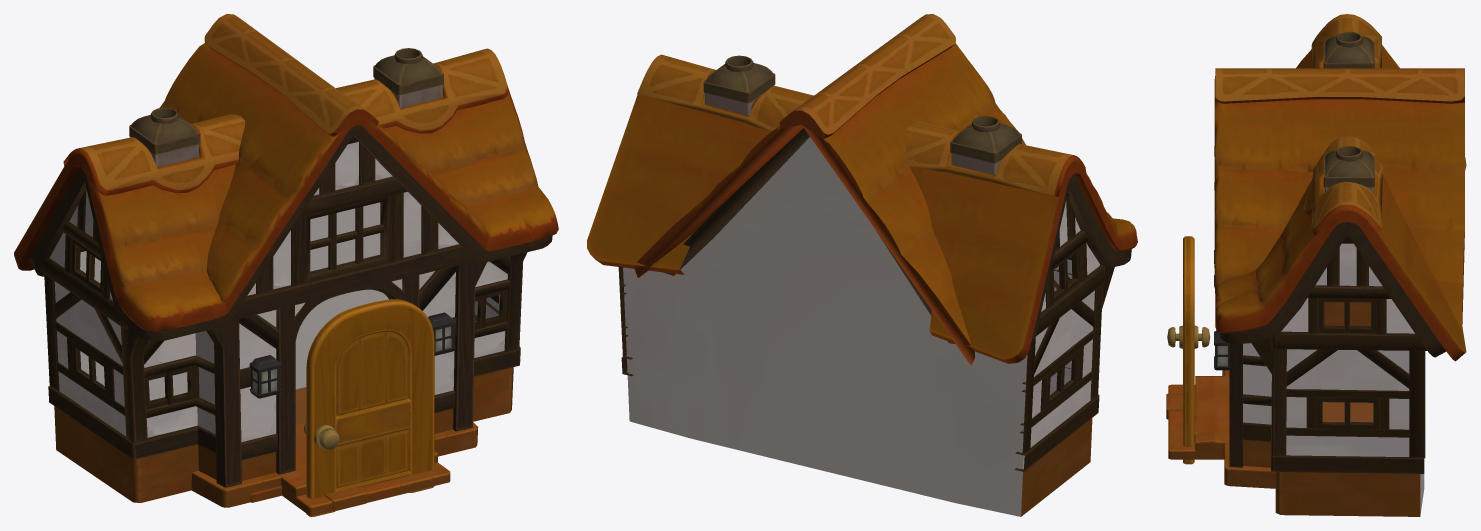
The model's file is house-chalet.glb.
The picture shows the model from 3 angles, left to right: view 1: azimuth 30°, elevation 25°; view 2: azimuth 150°, elevation 25°; view 3: azimuth 270°, elevation 25°; orthographic projection. The views are drawn at different scales.
Visible parts, largest first — view 1: HouseWallPA04WoodframeA_node10, HouseWallPA04WoodframeA_node18, HouseRoofPA04ThatchedB_node6, HouseRoofPA04ThatchedB_node7, HouseDoorStandardBR_node3, HouseRoofPA04ThatchedB_node3, HouseWallPA04WoodframeA_node14; view 2: HouseWallPA04WoodframeA_node10, HouseRoofPA04ThatchedB_node6, HouseRoofPA04ThatchedB_node7, HouseWallPA04WoodframeA_node18, HouseRoofPA04ThatchedB_node3; view 3: HouseRoofPA04ThatchedB_node6, HouseWallPA04WoodframeA_node10, HouseWallPA04WoodframeA_node18, HouseRoofPA04ThatchedB_node7, HouseRoofPA04ThatchedB_node3, HouseDoorStandardBR_node3, HouseWallPA04WoodframeA_node14.
Boxes of the visible parts, x1=… form: HouseWallPA04WoodframeA_node10: x1=29, y1=125, x2=552, y2=515; HouseWallPA04WoodframeA_node18: x1=39, y1=135, x2=527, y2=487; HouseRoofPA04ThatchedB_node6: x1=63, y1=14, x2=508, y2=312; HouseRoofPA04ThatchedB_node7: x1=14, y1=86, x2=558, y2=331; HouseDoorStandardBR_node3: x1=303, y1=299, x2=434, y2=516; HouseRoofPA04ThatchedB_node3: x1=129, y1=48, x2=443, y2=167; HouseWallPA04WoodframeA_node14: x1=249, y1=312, x2=455, y2=398; HouseWallPA04WoodframeA_node10: x1=623, y1=128, x2=1131, y2=516; HouseRoofPA04ThatchedB_node6: x1=634, y1=14, x2=1086, y2=365; HouseRoofPA04ThatchedB_node7: x1=587, y1=94, x2=1137, y2=363; HouseWallPA04WoodframeA_node18: x1=618, y1=193, x2=1114, y2=471; HouseRoofPA04ThatchedB_node3: x1=703, y1=55, x2=1021, y2=174; HouseRoofPA04ThatchedB_node6: x1=1214, y1=14, x2=1464, y2=329; HouseWallPA04WoodframeA_node10: x1=1166, y1=222, x2=1445, y2=516; HouseWallPA04WoodframeA_node18: x1=1229, y1=235, x2=1426, y2=473; HouseRoofPA04ThatchedB_node7: x1=1215, y1=45, x2=1466, y2=361; HouseRoofPA04ThatchedB_node3: x1=1323, y1=31, x2=1374, y2=194; HouseDoorStandardBR_node3: x1=1167, y1=236, x2=1210, y2=464; HouseWallPA04WoodframeA_node14: x1=1214, y1=250, x2=1229, y2=370.
Bounding box in the file's own units: 50.03 × 42.06 × 31.31.
Materials: 6 (6 with a texture image).
